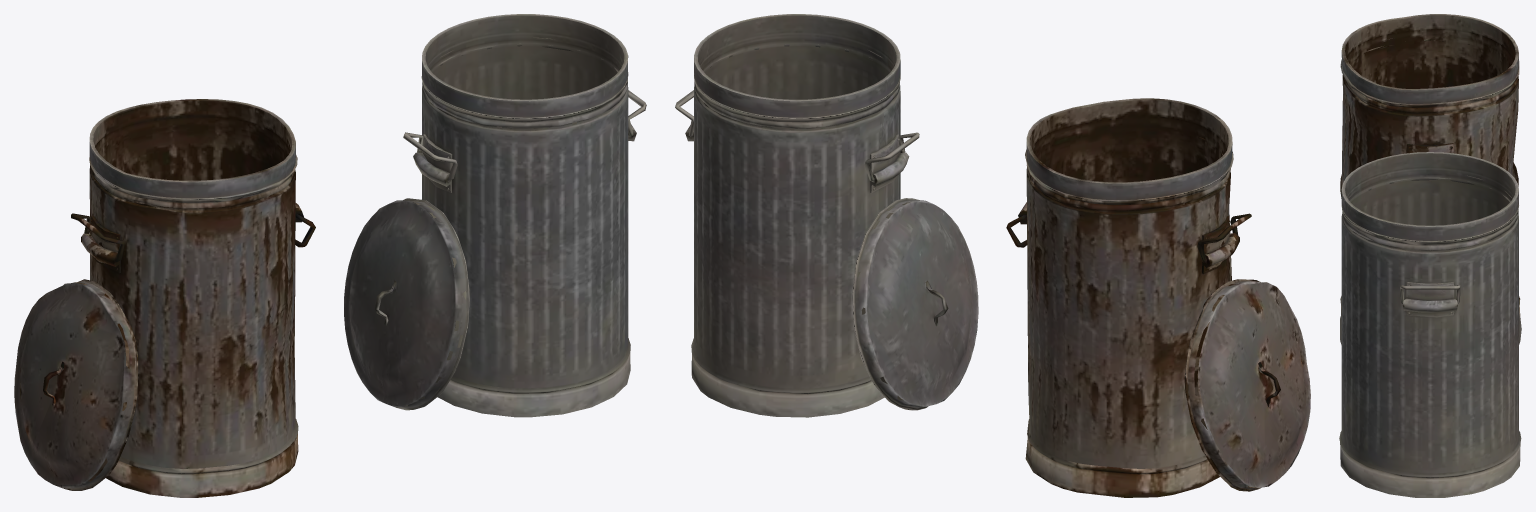
The model's file is metal_trash_can.glb.
The picture shows the model from 3 angles, left to right: view 1: azimuth 30°, elevation 25°; view 2: azimuth 150°, elevation 25°; view 3: azimuth 270°, elevation 25°; orthographic projection. The views are drawn at different scales.
Parts seen in each view (by area): view 1: metal_trash_can_handle_left, metal_trash_can_rust; view 2: metal_trash_can_handle_left, metal_trash_can_rust; view 3: metal_trash_can_handle_left, metal_trash_can_rust.
Boxes of the visible parts, left/top/right/bottom form: metal_trash_can_handle_left: left=344, top=14, right=646, bottom=417; metal_trash_can_rust: left=14, top=99, right=315, bottom=497; metal_trash_can_handle_left: left=675, top=14, right=978, bottom=417; metal_trash_can_rust: left=1006, top=98, right=1310, bottom=497; metal_trash_can_handle_left: left=1339, top=152, right=1521, bottom=497; metal_trash_can_rust: left=1340, top=14, right=1520, bottom=316.
Bounding box in the file's own units: 1.78 × 0.9062 × 0.5534.
2 materials, 2 textured.
